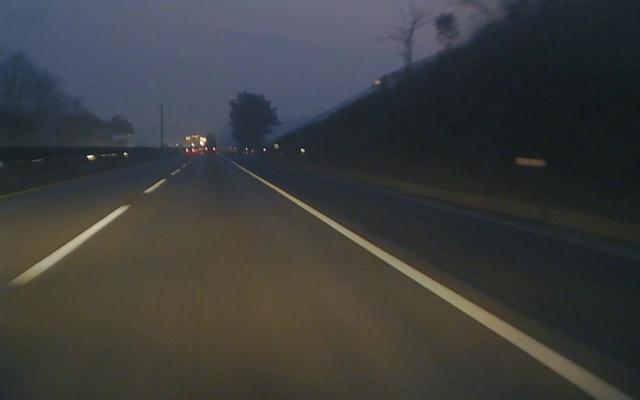lane: (241, 165, 640, 400), (0, 159, 191, 307)
